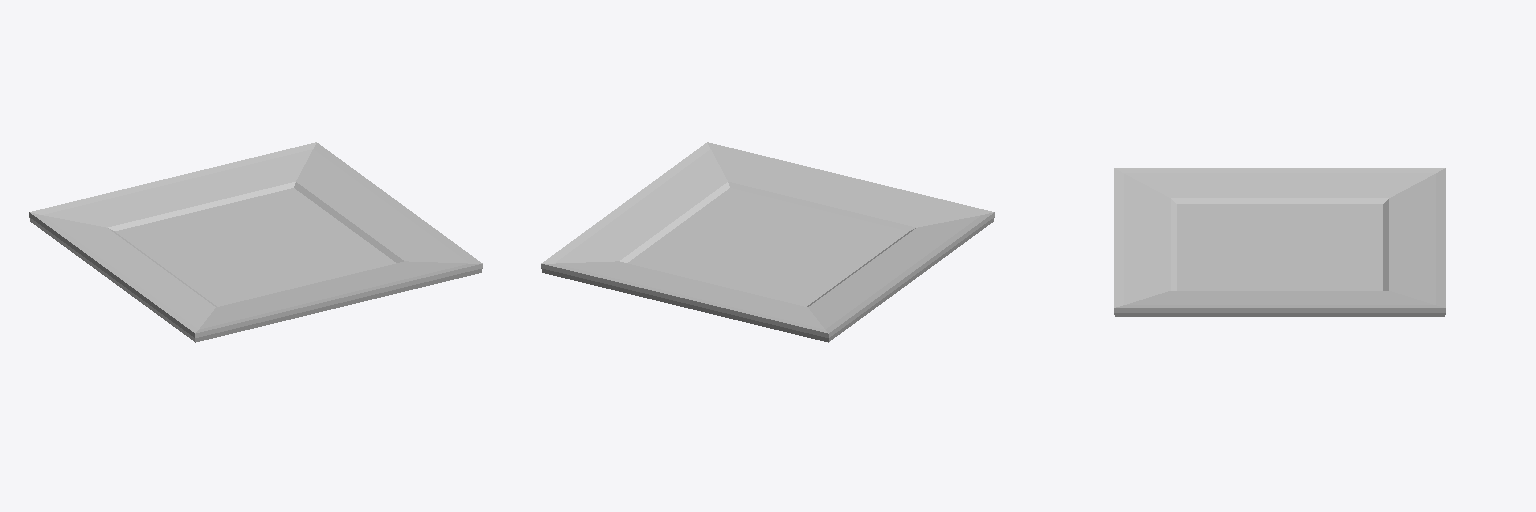
The model's file is Square_Plate_Large_obj.obj.
3 views of the same model, side by side, from view 1: azimuth 30°, elevation 25°; view 2: azimuth 150°, elevation 25°; view 3: azimuth 270°, elevation 25° (orthographic).
Parts seen in each view (by area): view 1: Plate_Square_Large_Cube.002; view 2: Plate_Square_Large_Cube.002; view 3: Plate_Square_Large_Cube.002.
Part boxes in pixels (left/top/right/bottom): Plate_Square_Large_Cube.002: left=29, top=142, right=482, bottom=342; Plate_Square_Large_Cube.002: left=541, top=142, right=994, bottom=342; Plate_Square_Large_Cube.002: left=1114, top=168, right=1445, bottom=316.
Size of the model in its own units: 30.47 by 3.67 by 30.47.